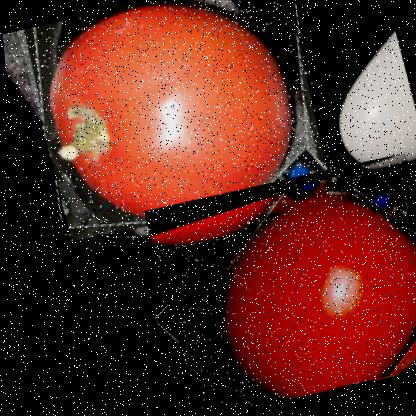tomato: (12, 0, 341, 260), (134, 154, 415, 411)
